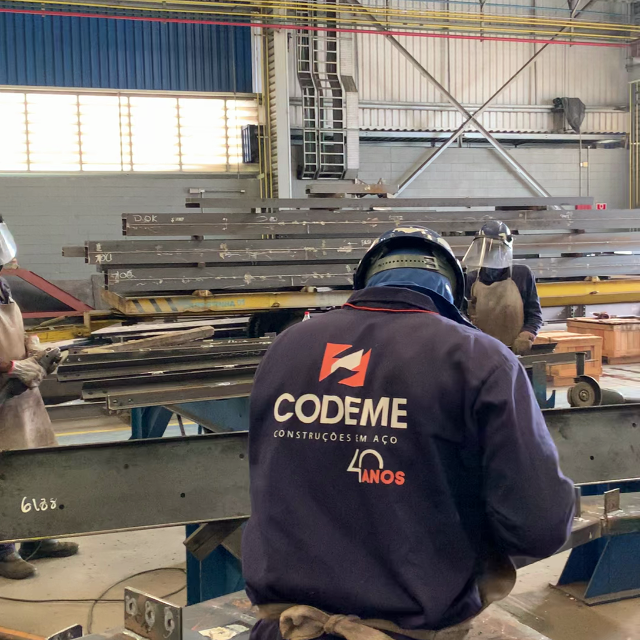face-shield: (461, 238, 506, 271), (1, 219, 16, 261)
glove: (5, 354, 50, 391), (509, 333, 535, 354)
helmet: (354, 223, 467, 309), (476, 217, 509, 238)
person: (240, 224, 577, 634), (2, 217, 69, 443), (465, 219, 544, 355)
safety-shoe: (19, 539, 80, 561), (3, 544, 36, 581)
